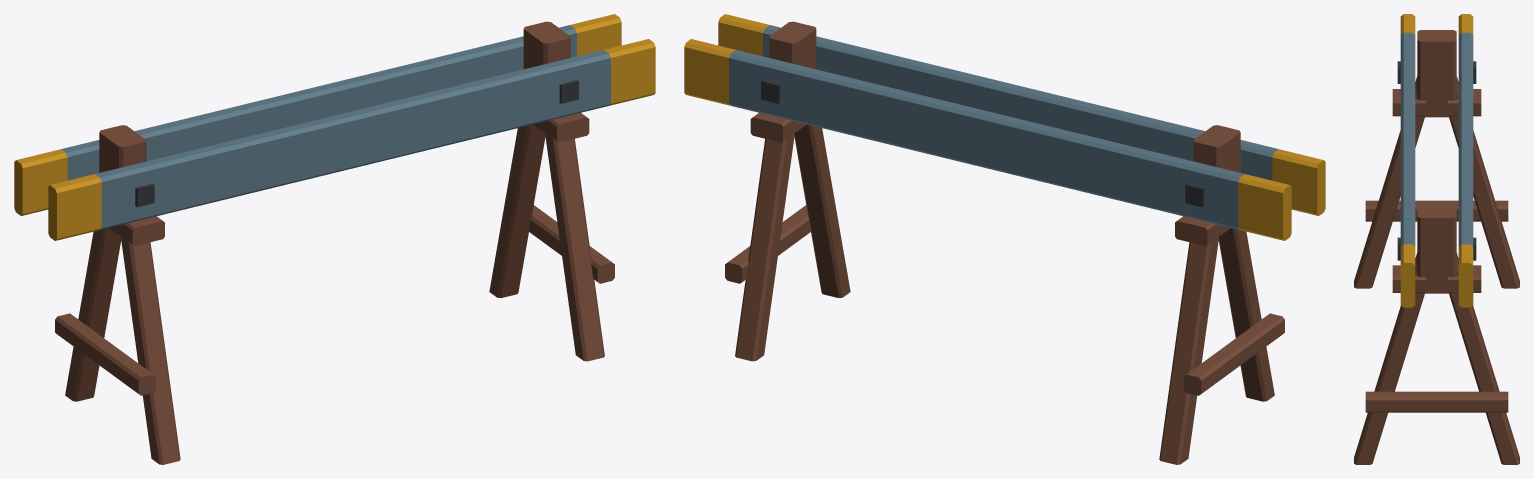
File: police-barricade-0bbf37.glb
3 views of the same model, side by side, from view 1: azimuth 30°, elevation 25°; view 2: azimuth 150°, elevation 25°; view 3: azimuth 270°, elevation 25° (orthographic). The views are drawn at different scales.
Visible parts, largest first — view 1: barricade; view 2: barricade; view 3: barricade.
Part boxes in pixels (x1,y1,x2,y2): barricade: (14, 14, 655, 464); barricade: (684, 14, 1325, 464); barricade: (1354, 14, 1519, 464).
Size of the model in its own units: 2.4 by 1.12 by 0.675.
